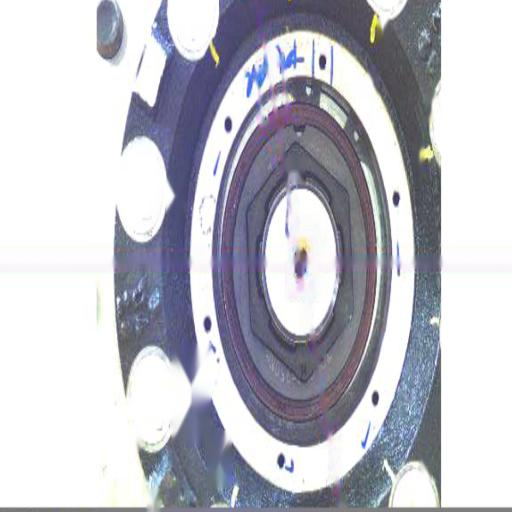center: (291, 256, 308, 288)
notch: (288, 118, 310, 146)
